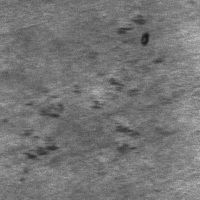rolled-in_scale: (83, 69, 156, 165), (14, 71, 69, 175)
